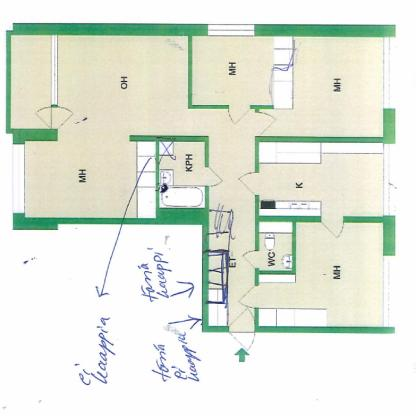door: (33, 104, 77, 131), (231, 314, 254, 351), (321, 216, 346, 240), (254, 110, 274, 135), (236, 173, 260, 193), (240, 282, 258, 308), (228, 106, 249, 124), (205, 168, 222, 188), (242, 251, 258, 269)
window: (381, 142, 397, 217), (382, 36, 395, 108), (383, 255, 395, 325), (207, 25, 255, 38)
zone: (18, 38, 382, 328), (257, 217, 382, 327), (256, 139, 380, 216), (191, 35, 291, 106), (10, 34, 52, 128), (159, 140, 206, 209), (257, 221, 289, 270)
